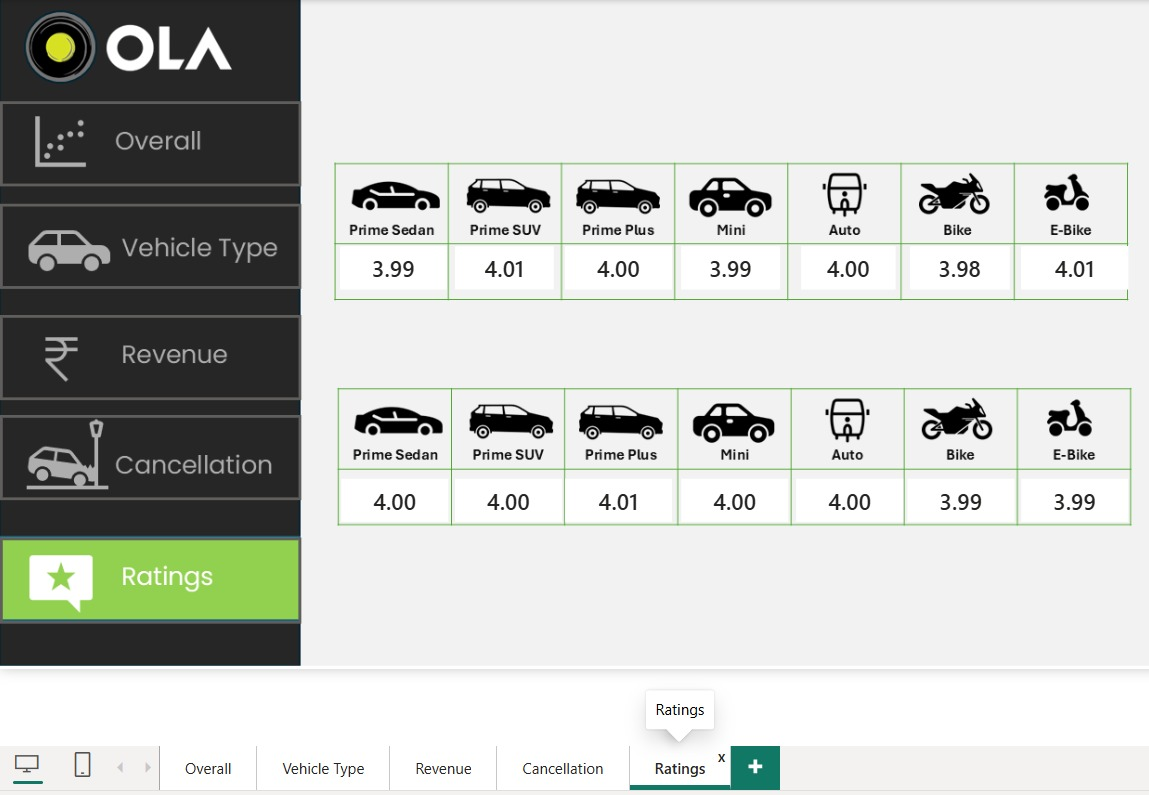

What the dashboard file says about the page in this screenshot:
{"tool":"powerbi","page":{"name":"Ratings","canvas":[1280,720],"ordinal":4},"visuals":[{"type":"actionButton","box":[0,579.1,324.5,92.9],"z":0},{"type":"actionButton","box":[0,219.6,324.5,91.7],"z":1000},{"type":"actionButton","box":[0,339,324.5,91.7],"z":2000},{"type":"actionButton","box":[0,447.6,324.5,91.7],"z":3000},{"type":"actionButton","box":[0,108.6,324.5,91.7],"z":4000},{"type":"cardVisual","fields":{"Data":["Avg(July.Driver_Ratings)"]},"box":[365.6,265,115.5,46.2],"z":4001},{"type":"cardVisual","fields":{"Data":["Avg(July.Driver_Ratings)"]},"box":[490.6,265,106,46.2],"z":4002},{"type":"cardVisual","fields":{"Data":["Avg(July.Driver_Ratings)"]},"box":[608.9,265,115.5,46.2],"z":4003},{"type":"cardVisual","fields":{"Data":["Avg(July.Driver_Ratings)"]},"box":[733.9,265,106,46.2],"z":4004},{"type":"cardVisual","fields":{"Data":["Avg(July.Driver_Ratings)"]},"box":[863,265,101.9,46.2],"z":4005},{"type":"cardVisual","fields":{"Data":["Avg(July.Driver_Ratings)"]},"box":[979.9,265,107.4,46.2],"z":4006},{"type":"cardVisual","fields":{"Data":["Avg(July.Driver_Ratings)"]},"box":[1099.5,265,115.5,46.2],"z":4007},{"type":"cardVisual","fields":{"Data":["Avg(July.Customer_Rating)"]},"box":[367,515.1,115.5,46.2],"z":4008},{"type":"cardVisual","fields":{"Data":["Avg(July.Customer_Rating)"]},"box":[490.6,515.1,115.5,46.2],"z":4009},{"type":"cardVisual","fields":{"Data":["Avg(July.Customer_Rating)"]},"box":[608.9,515.1,115.5,46.2],"z":4010},{"type":"cardVisual","fields":{"Data":["Avg(July.Customer_Rating)"]},"box":[733.9,515.1,115.5,46.2],"z":4011},{"type":"cardVisual","fields":{"Data":["Avg(July.Customer_Rating)"]},"box":[857.6,515.1,115.5,46.2],"z":4012},{"type":"cardVisual","fields":{"Data":["Avg(July.Customer_Rating)"]},"box":[977.2,515.1,115.5,46.2],"z":4013},{"type":"cardVisual","fields":{"Data":["Avg(July.Customer_Rating)"]},"box":[1099.5,515.1,115.5,46.2],"z":4014}]}

Visuals, with their boxes on the page's 1280x720 design canvas (x1, y1, x2, y2). These are canvas units, not pixel positions in the 1149x795 screenshot, which may show the page scaled, cropped or inside an application window:
actionButton: [x1=0, y1=579, x2=324, y2=672]
actionButton: [x1=0, y1=220, x2=324, y2=311]
actionButton: [x1=0, y1=339, x2=324, y2=431]
actionButton: [x1=0, y1=448, x2=324, y2=539]
actionButton: [x1=0, y1=109, x2=324, y2=200]
cardVisual - Avg(July.Driver_Ratings): [x1=366, y1=265, x2=481, y2=311]
cardVisual - Avg(July.Driver_Ratings): [x1=491, y1=265, x2=597, y2=311]
cardVisual - Avg(July.Driver_Ratings): [x1=609, y1=265, x2=724, y2=311]
cardVisual - Avg(July.Driver_Ratings): [x1=734, y1=265, x2=840, y2=311]
cardVisual - Avg(July.Driver_Ratings): [x1=863, y1=265, x2=965, y2=311]
cardVisual - Avg(July.Driver_Ratings): [x1=980, y1=265, x2=1087, y2=311]
cardVisual - Avg(July.Driver_Ratings): [x1=1100, y1=265, x2=1215, y2=311]
cardVisual - Avg(July.Customer_Rating): [x1=367, y1=515, x2=482, y2=561]
cardVisual - Avg(July.Customer_Rating): [x1=491, y1=515, x2=606, y2=561]
cardVisual - Avg(July.Customer_Rating): [x1=609, y1=515, x2=724, y2=561]
cardVisual - Avg(July.Customer_Rating): [x1=734, y1=515, x2=849, y2=561]
cardVisual - Avg(July.Customer_Rating): [x1=858, y1=515, x2=973, y2=561]
cardVisual - Avg(July.Customer_Rating): [x1=977, y1=515, x2=1093, y2=561]
cardVisual - Avg(July.Customer_Rating): [x1=1100, y1=515, x2=1215, y2=561]
